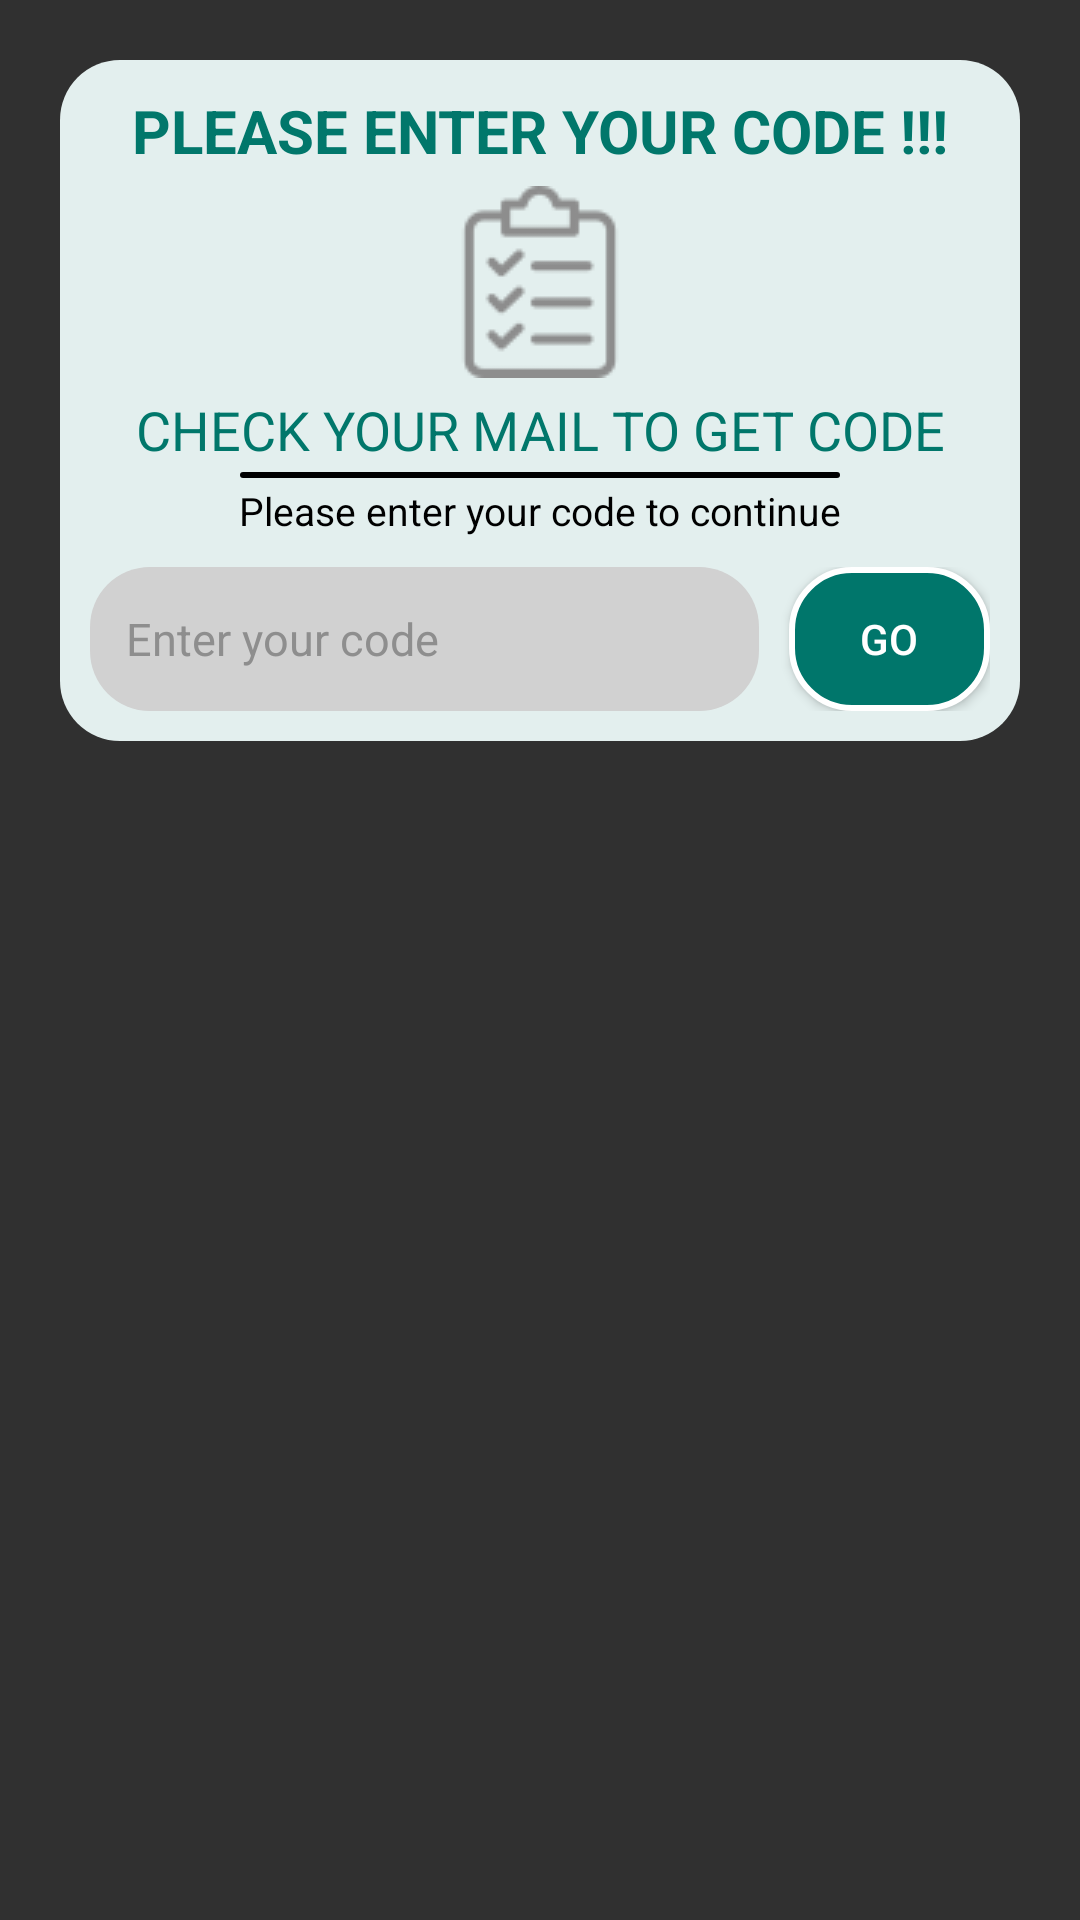

Icons on this 1080x1920 Android screen, each with its box as (x1, y1, x2, y2):
clipboard: (464, 186, 616, 378)
